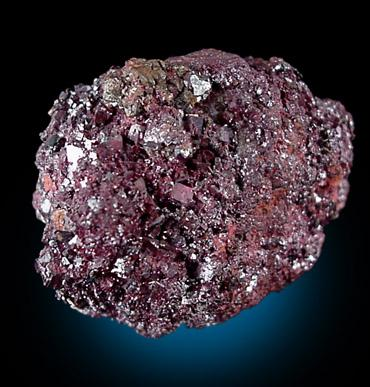cuprite: (36, 50, 353, 336)
